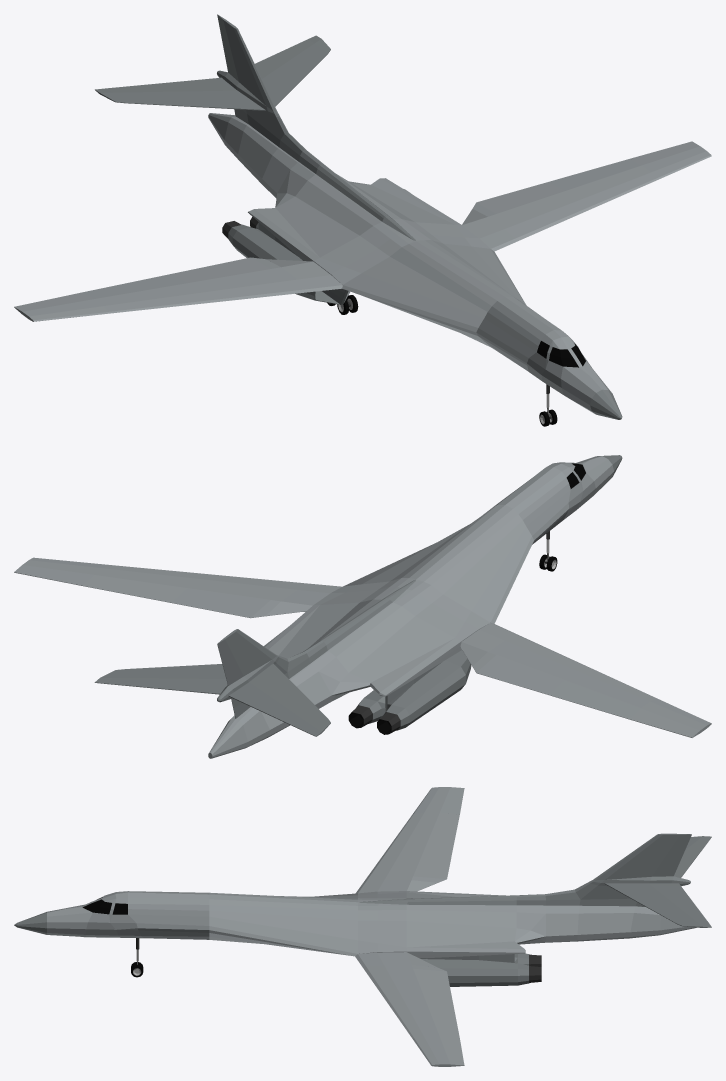
3 renders of one model, top to bottom at view 1: azimuth 30°, elevation 25°; view 2: azimuth 150°, elevation 25°; view 3: azimuth 270°, elevation 25°, orthographic. The views are drawn at different scales.
Parts seen in each view (by area): view 1: Circle.030, Circle.038, Circle.033, Circle.032, Circle.034, Circle.043, Circle.044; view 2: Circle.030, Circle.038, Circle.033, Circle.043, Circle.034, Circle.044, Circle.032, Circle.031; view 3: Circle.030, Circle.033, Circle.038, Circle.043, Circle.034, Circle.044, Circle.031, Circle.032.
Part boxes in pixels (<box>): Circle.030: <box>95,19,622,419</box>; Circle.038: <box>14,257,342,321</box>; Circle.033: <box>462,141,711,251</box>; Circle.032: <box>106,78,232,92</box>; Circle.034: <box>82,274,187,298</box>; Circle.043: <box>549,159,640,190</box>; Circle.044: <box>255,39,314,78</box>; Circle.030: <box>94,455,622,758</box>; Circle.038: <box>460,623,711,737</box>; Circle.033: <box>14,557,341,618</box>; Circle.043: <box>82,575,187,602</box>; Circle.034: <box>548,680,640,719</box>; Circle.044: <box>106,678,227,693</box>; Circle.032: <box>233,683,314,732</box>; Circle.031: <box>217,638,243,685</box>; Circle.030: <box>14,833,711,986</box>; Circle.033: <box>355,952,464,1066</box>; Circle.038: <box>355,787,464,893</box>; Circle.043: <box>426,1000,459,1038</box>; Circle.034: <box>426,812,459,848</box>; Circle.044: <box>650,884,708,923</box>; Circle.031: <box>652,834,691,876</box>; Circle.032: <box>674,840,709,877</box>.
Size of the model in its own units: 5634 by 1337 by 5991.
